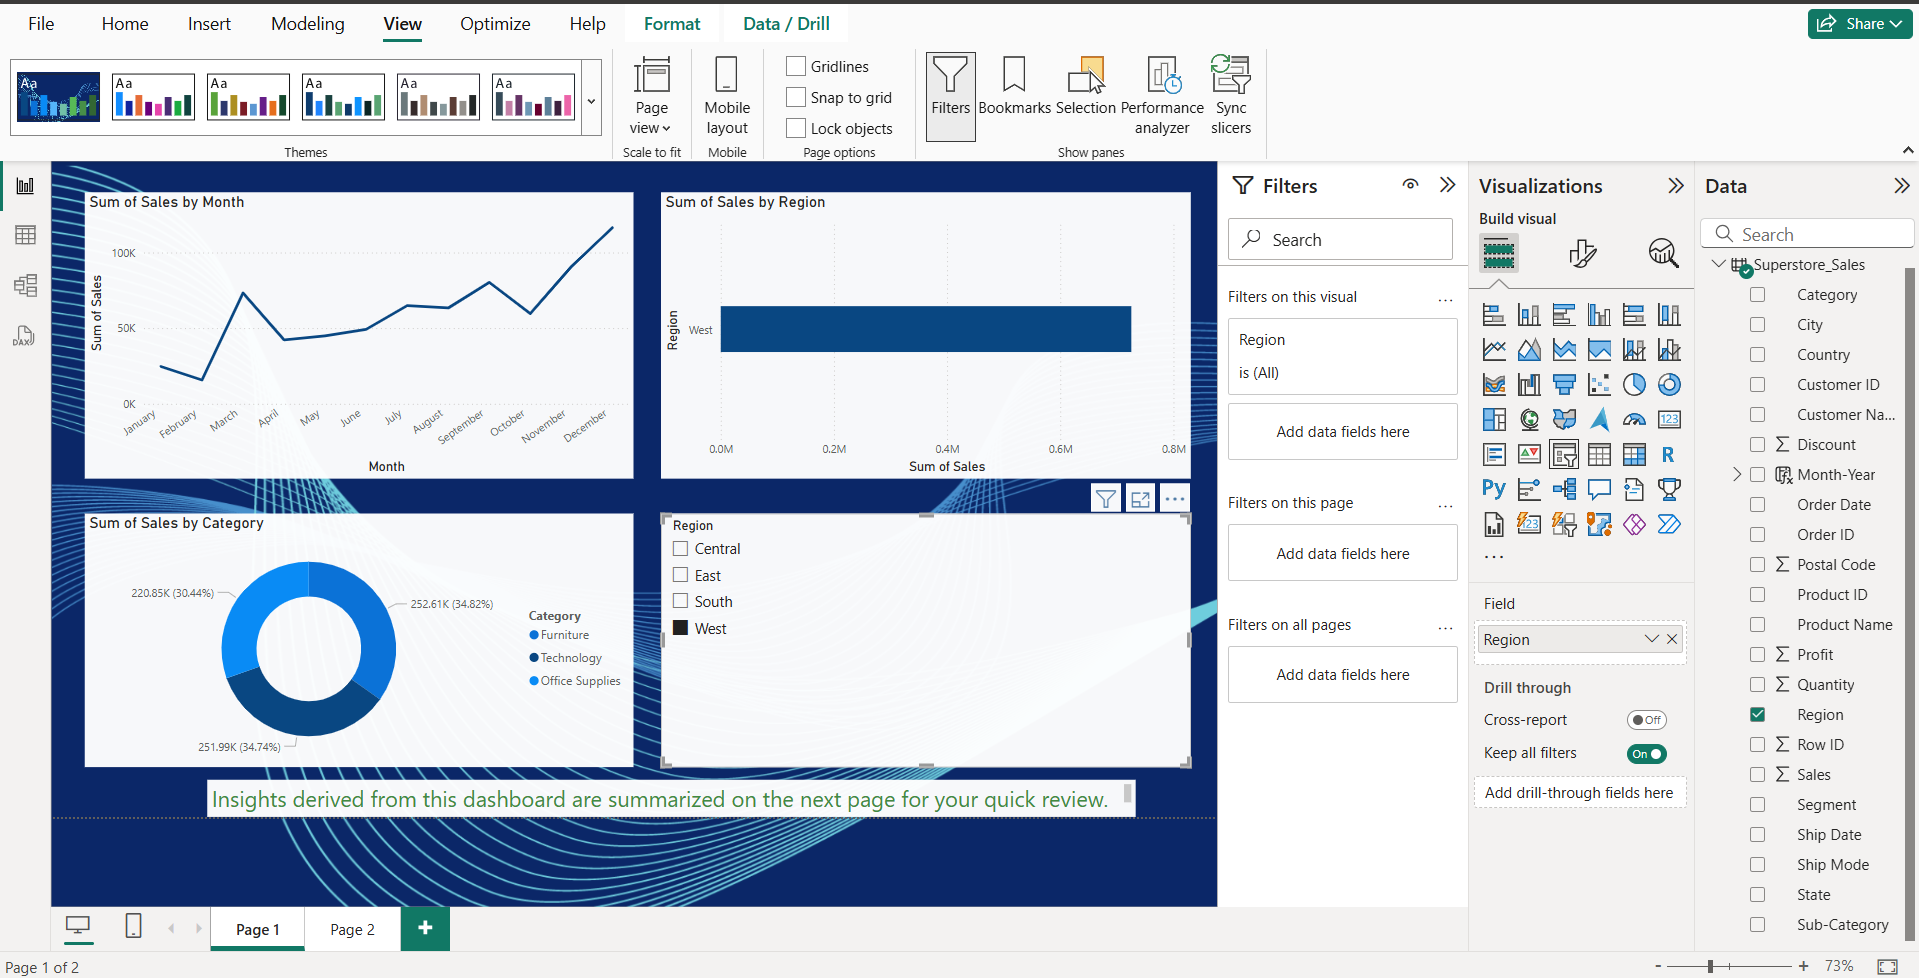

This screenshot's page, from the dashboard's own definition file:
{"tool":"powerbi","page":{"name":"Page 1","canvas":[1280,720],"ordinal":0},"visuals":[{"type":"lineChart","fields":{"Y":["Sum(Superstore_Sales.Sales)"],"Category":["Superstore_Sales.Month-Year.Variation.Date Hierarchy.Month"]},"box":[37,34.3,602.4,314.2],"z":0},{"type":"barChart","fields":{"Y":["Sum(Superstore_Sales.Sales)"],"Category":["Superstore_Sales.Region"]},"box":[669.6,34.3,581.8,314.2],"z":1000},{"type":"donutChart","fields":{"Y":["Sum(Superstore_Sales.Sales)"],"Category":["Superstore_Sales.Category"]},"box":[37,387,602.4,278.6],"z":2000},{"type":"slicer","fields":{"Values":["Superstore_Sales.Region"]},"box":[669.6,387,581.8,278.6],"z":3000},{"type":"textbox","box":[171.5,679.2,1019.6,41.2],"z":3001}]}

Visuals, with their boxes on the page's 1280x720 design canvas (x1, y1, x2, y2). These are canvas units, not pixel positions in the 1919x978 screenshot, which may show the page scaled, cropped or inside an application window:
lineChart - Sum(Superstore_Sales.Sales) x Superstore_Sales.Month-Year.Variation.Date Hierarchy.Month: bbox=[37, 34, 639, 348]
barChart - Sum(Superstore_Sales.Sales) x Superstore_Sales.Region: bbox=[670, 34, 1251, 348]
donutChart - Sum(Superstore_Sales.Sales) x Superstore_Sales.Category: bbox=[37, 387, 639, 666]
slicer - Superstore_Sales.Region: bbox=[670, 387, 1251, 666]
textbox: bbox=[172, 679, 1191, 720]
